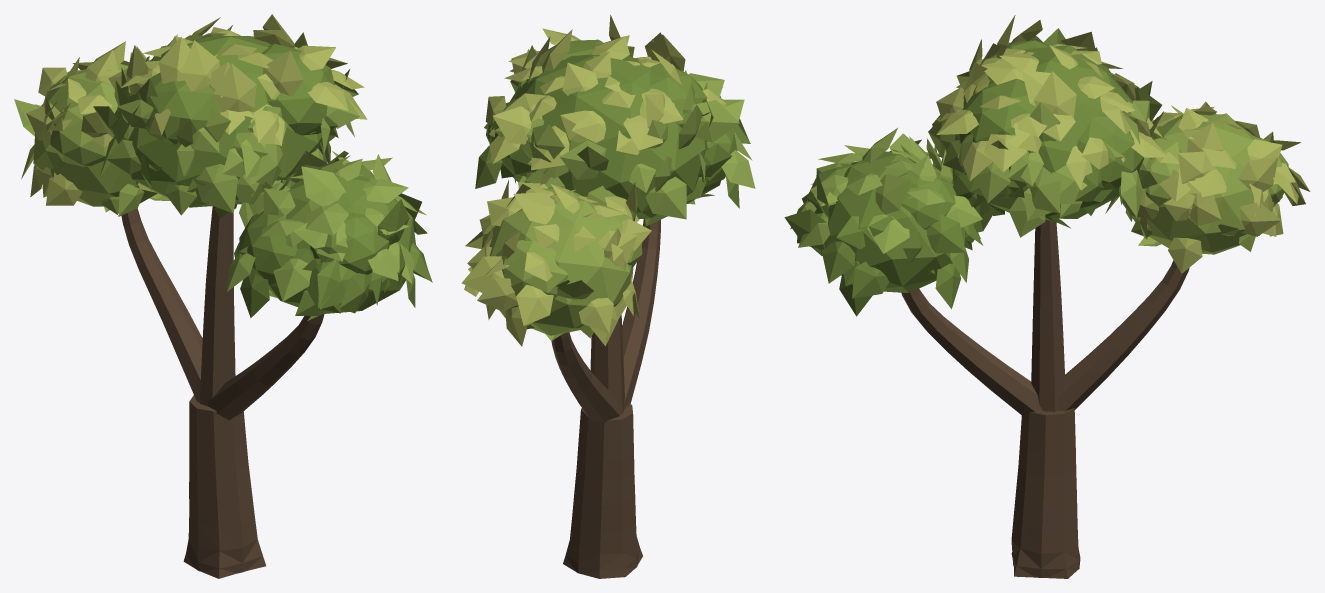
3 renders of one model, left to right at view 1: azimuth 30°, elevation 25°; view 2: azimuth 150°, elevation 25°; view 3: azimuth 270°, elevation 25°, orthographic. The views are drawn at different scales.
Parts seen in each view (by area): view 1: crown, trunk; view 2: crown, trunk; view 3: crown, trunk.
Boxes of the visible parts, x1,y1,x2,y2 form: crown: (14,14,432,321); trunk: (121,206,324,578); crown: (461,14,755,346); trunk: (551,218,660,578); crown: (784,15,1310,316); trunk: (901,219,1189,578).
Size of the model in its own units: 2.27 by 4.89 by 4.41.
